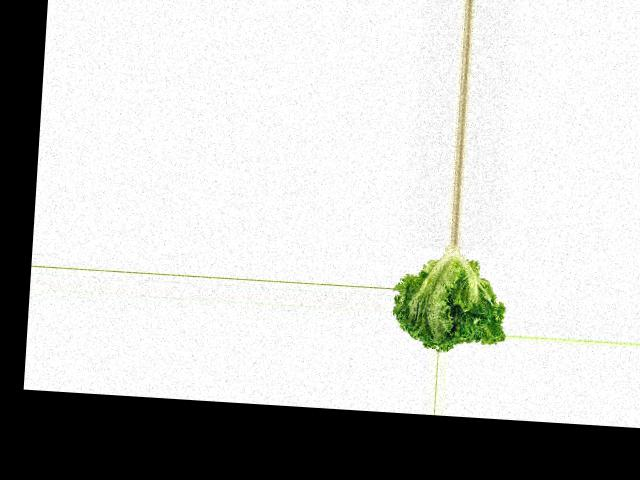lettuce: (390, 241, 510, 354)
